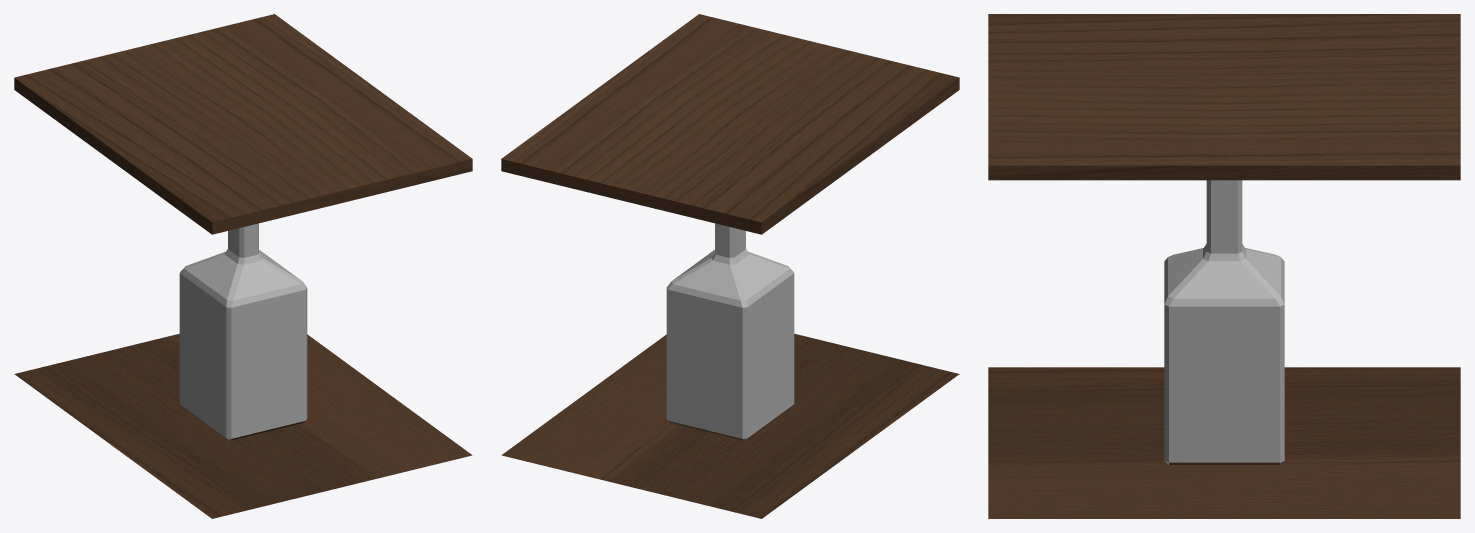
File: Tabdle_2.fbx
3 renders of one model, left to right at view 1: azimuth 30°, elevation 25°; view 2: azimuth 150°, elevation 25°; view 3: azimuth 270°, elevation 25°, orthographic. The views are drawn at different scales.
Parts seen in each view (by area): view 1: Cube.106; view 2: Cube.106; view 3: Cube.106.
Boxes of the visible parts, <box> form: Cube.106: <box>14,14,472,518</box>; Cube.106: <box>501,14,959,518</box>; Cube.106: <box>988,14,1460,518</box>.
Size of the model in its own units: 152 by 165 by 200.
2 materials, 1 textured.
